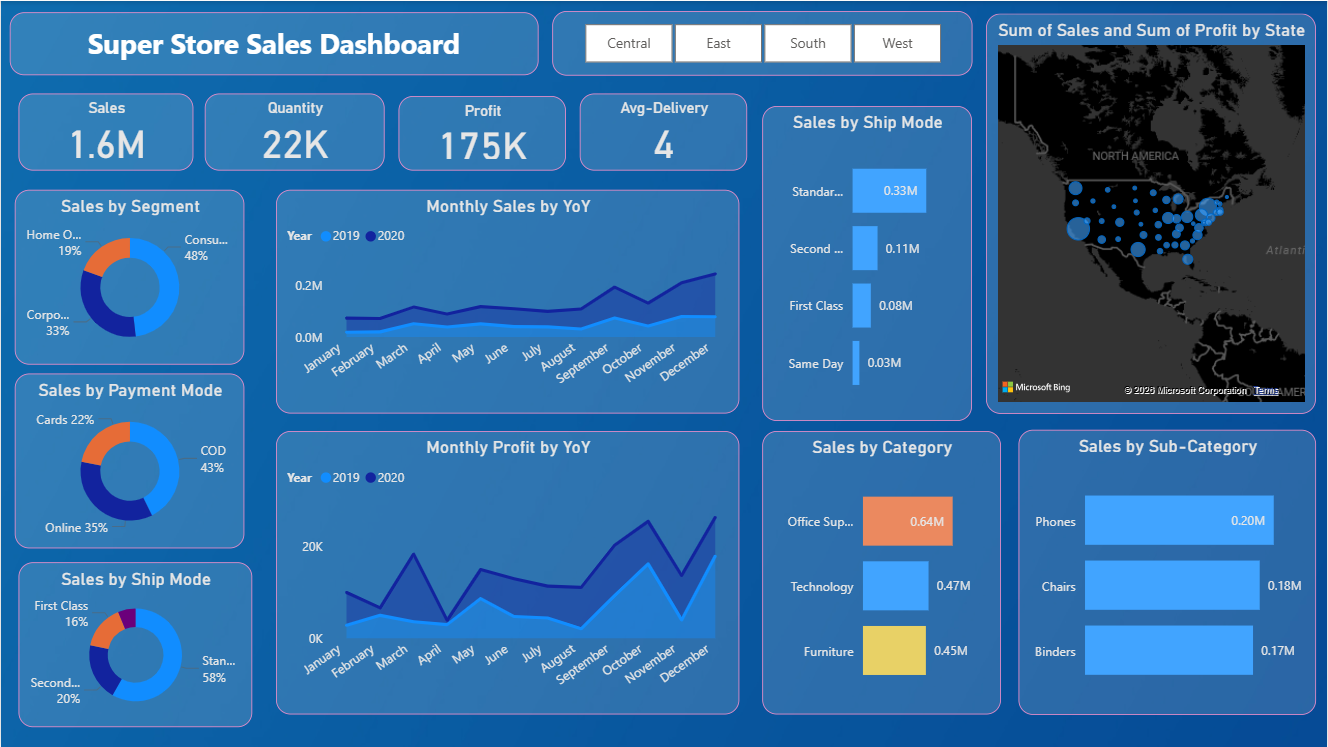

Layout of this report page (visuals, bound fields, positions):
{"tool":"powerbi","page":{"name":"Page 1","canvas":[1280,720],"ordinal":0},"visuals":[{"type":"clusteredBarChart","title":"Sales by Category","fields":{"Category":["SuperStore_Sales_Dataset.Category"],"Y":["Sum(SuperStore_Sales_Dataset.Sales)"]},"box":[734.7,415,230.4,273.9],"z":0},{"type":"clusteredBarChart","title":"Sales by Ship Mode","fields":{"Category":["SuperStore_Sales_Dataset.Ship Mode"],"Y":["Sum(SuperStore_Sales_Dataset.Sales)"]},"box":[734.7,101.3,202.7,304],"z":1000},{"type":"clusteredBarChart","title":"Sales by Sub-Category","fields":{"Category":["SuperStore_Sales_Dataset.Sub-Category"],"Y":["Sum(SuperStore_Sales_Dataset.Sales)"]},"box":[982,413.8,287.1,275.1],"z":2000},{"type":"stackedAreaChart","title":" Monthly Sales by YoY","fields":{"Y":["Sum(SuperStore_Sales_Dataset.Sales)"],"Category":["SuperStore_Sales_Dataset.Order Date.Variation.Date Hierarchy.Month","SuperStore_Sales_Dataset.Order Date.Variation.Date Hierarchy.Day"],"Series":["SuperStore_Sales_Dataset.Order Date.Variation.Date Hierarchy.Year"]},"box":[265.4,182.2,447.6,216],"z":3000},{"type":"stackedAreaChart","title":" Monthly Profit by YoY","fields":{"Category":["SuperStore_Sales_Dataset.Order Date.Variation.Date Hierarchy.Month","SuperStore_Sales_Dataset.Order Date.Variation.Date Hierarchy.Day"],"Series":["SuperStore_Sales_Dataset.Order Date.Variation.Date Hierarchy.Year"],"Y":["Sum(SuperStore_Sales_Dataset.Profit)"]},"box":[265.4,415,447.6,273.9],"z":4000},{"type":"map","fields":{"Category":["SuperStore_Sales_Dataset.State"],"Size":["Sum(SuperStore_Sales_Dataset.Sales)"]},"box":[950.7,12.1,318.5,386.1],"z":5000},{"type":"donutChart","title":" Sales by Segment","fields":{"Category":["SuperStore_Sales_Dataset.Segment"],"Y":["Sum(SuperStore_Sales_Dataset.Sales)"]},"box":[13.3,182.2,222,168.9],"z":6000},{"type":"donutChart","title":" Sales by Payment Mode","fields":{"Category":["SuperStore_Sales_Dataset.Payment Mode"],"Y":["Sum(SuperStore_Sales_Dataset.Sales)"]},"box":[13.3,359.5,222,168.9],"z":7000},{"type":"slicer","fields":{"Values":["SuperStore_Sales_Dataset.Region"]},"box":[532,9.7,405.4,62.7],"z":8000},{"type":"textbox","box":[8.9,11.1,510,61.1],"z":9000},{"type":"card","title":"Sales","fields":{"Values":["Sum(SuperStore_Sales_Dataset.Sales)"]},"box":[16.9,89.3,168.9,74.8],"z":10000},{"type":"card","title":"Quantity","fields":{"Values":["Sum(SuperStore_Sales_Dataset.Quantity)"]},"box":[196.6,89.3,173.7,74.8],"z":11000},{"type":"card","title":"Profit","fields":{"Values":["Sum(SuperStore_Sales_Dataset.Profit)"]},"box":[383.6,91.7,161.7,72.4],"z":12000},{"type":"card","title":"Avg-Delivery","fields":{"Values":["Avg(SuperStore_Sales_Dataset.AvgDelivery)"]},"box":[558.6,89.3,161.7,74.8],"z":13000},{"type":"donutChart","title":"Sales by Ship Mode","fields":{"Category":["SuperStore_Sales_Dataset.Ship Mode"],"Y":["Sum(SuperStore_Sales_Dataset.Sales)"]},"box":[16.9,541.7,225.6,159.3],"z":14000}]}

Visuals, with their boxes in screenshot pixels (x1, y1, x2, y2), scaled from the page's 1280x720 canvas onto the 1328x747 screenshot:
"Sales by Category" clusteredBarChart: 762,431,1001,715
"Sales by Ship Mode" clusteredBarChart: 762,105,973,420
"Sales by Sub-Category" clusteredBarChart: 1019,429,1317,715
" Monthly Sales by YoY" stackedAreaChart: 275,189,740,413
" Monthly Profit by YoY" stackedAreaChart: 275,431,740,715
map - SuperStore_Sales_Dataset.State x Sum(SuperStore_Sales_Dataset.Sales): 986,13,1317,413
" Sales by Segment" donutChart: 14,189,244,364
" Sales by Payment Mode" donutChart: 14,373,244,548
slicer - SuperStore_Sales_Dataset.Region: 552,10,973,75
textbox: 9,12,538,75
"Sales" card: 18,93,193,170
"Quantity" card: 204,93,384,170
"Profit" card: 398,95,566,170
"Avg-Delivery" card: 580,93,747,170
"Sales by Ship Mode" donutChart: 18,562,252,727
